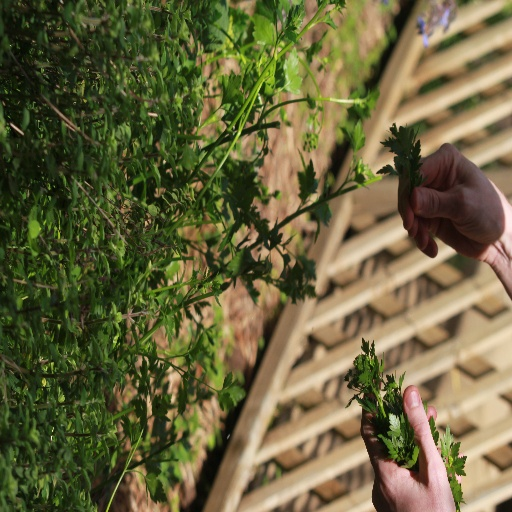hand: (358, 372, 456, 511), (398, 139, 500, 259)
